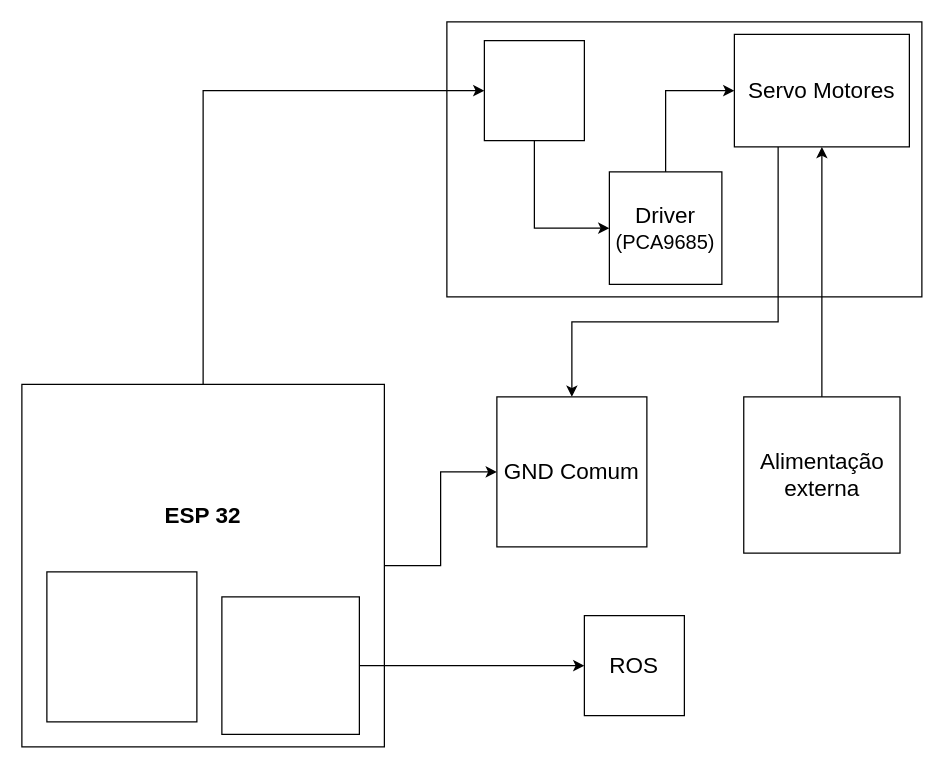
This 944x769 diagram has some shape labels left out. Here are the shapes that lost their labels. From the top down, the centre of each, then its label:
At pixel 533 90: "I²C".
At pixel 121 646: "Conversor A/D".
At pixel 290 665: "Bluetooth Wi-fi Serial".
